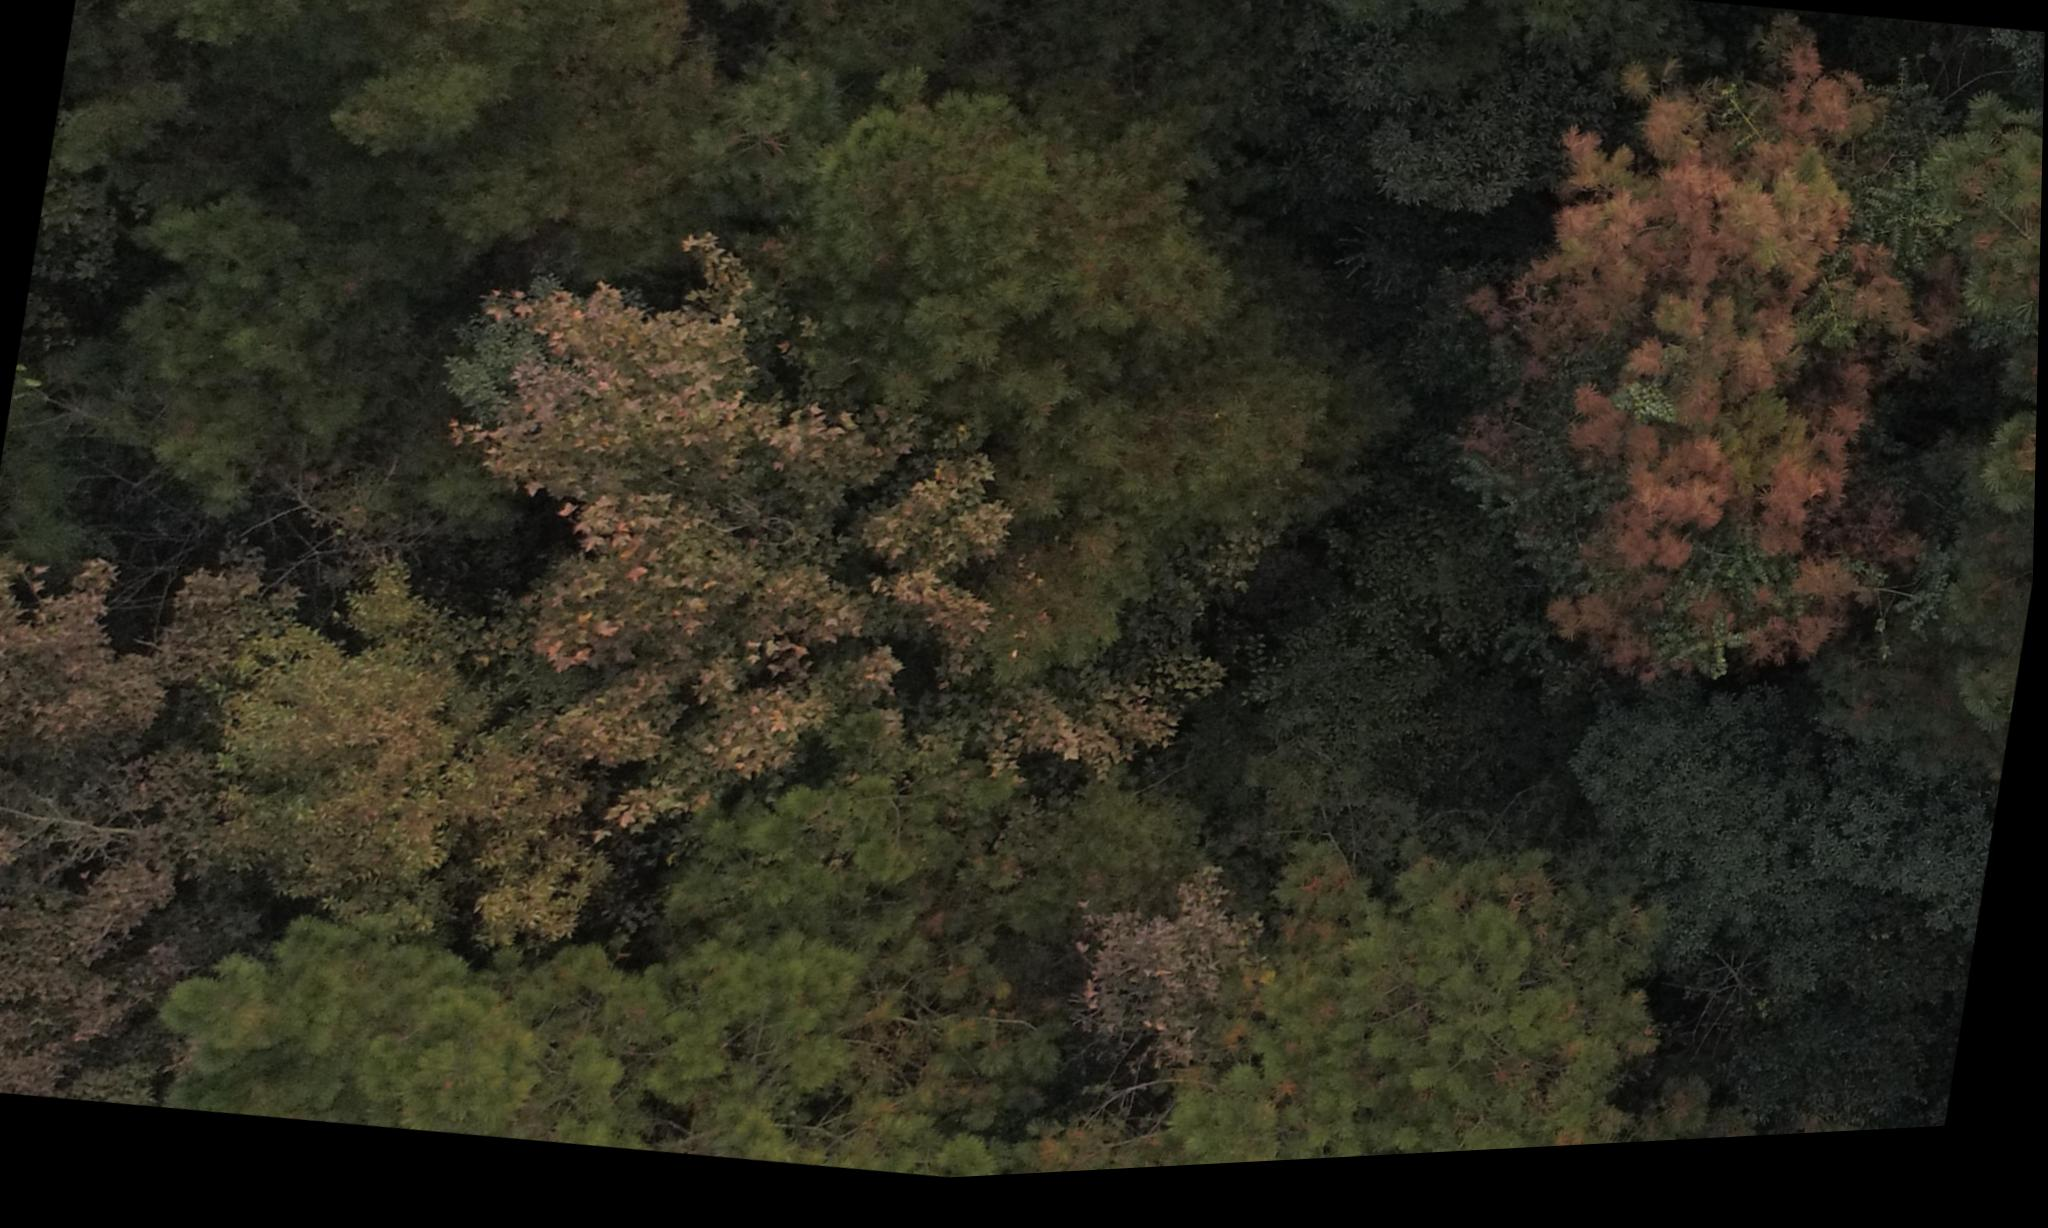heavy: (1424, 0, 1963, 734)
light: (1183, 823, 1678, 1178), (1916, 121, 2045, 519)
